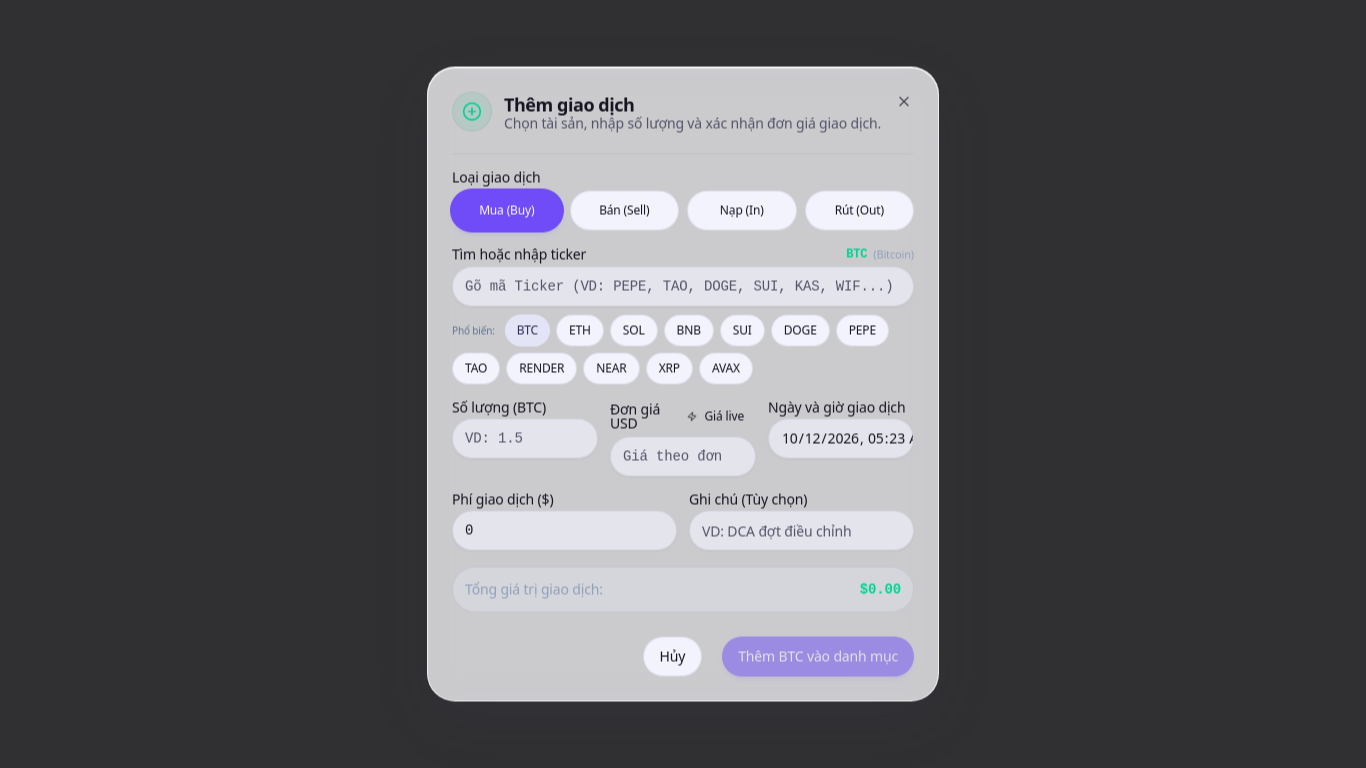
AddTransactionModal › selects a ticker suggestion with arrow keys and Enter
This screenshot has width=1366, height=768.
In the dropdown labelled "Tìm hoặc nhập ticker": coordinates (683, 286) left=452, top=266, right=914, bottom=306, type "DOGE"
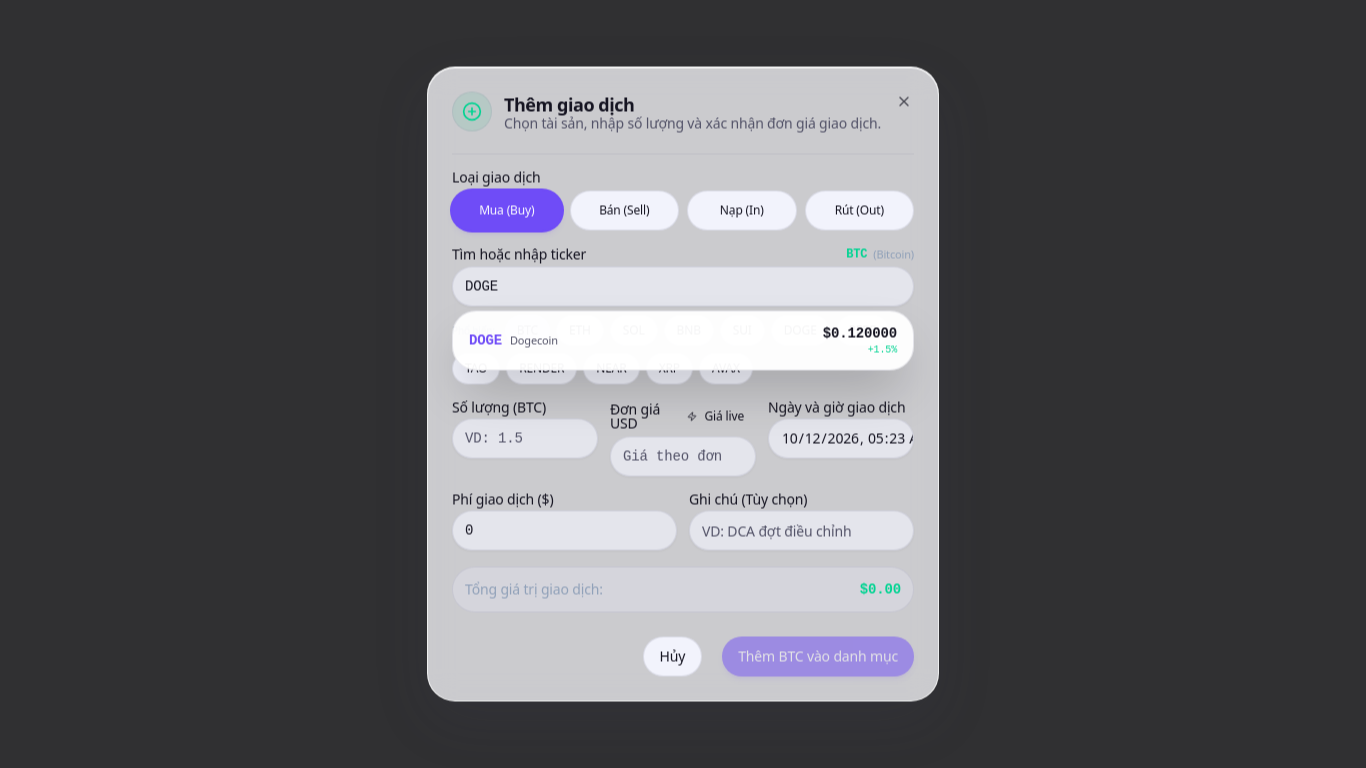
Press ArrowDown in the dropdown labelled "Tìm hoặc nhập ticker", box left=452, top=266, right=914, bottom=306
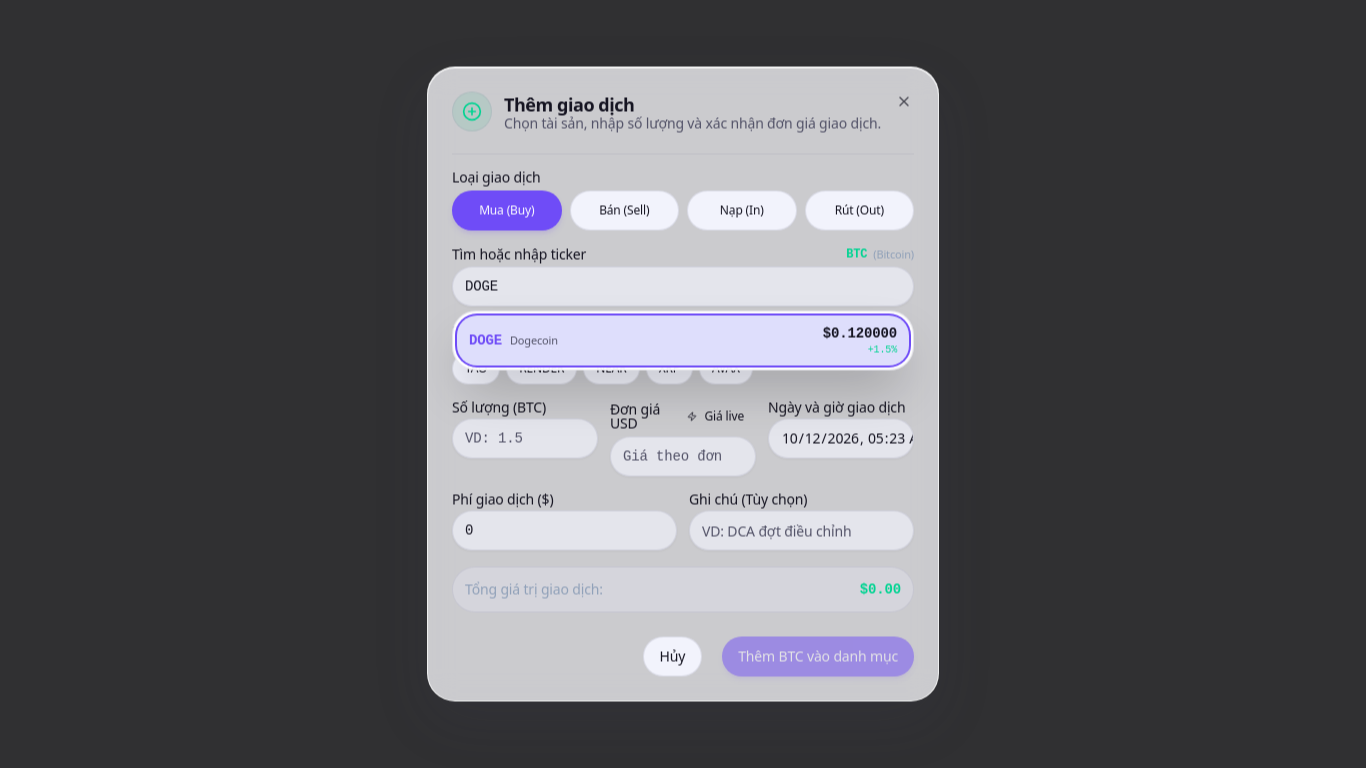
Now the button "DOGE Dogecoin $0.120000 +1.5%" is shown, box left=457, top=316, right=909, bottom=366
Press Enter in the dropdown labelled "Tìm hoặc nhập ticker", box left=452, top=266, right=914, bottom=306
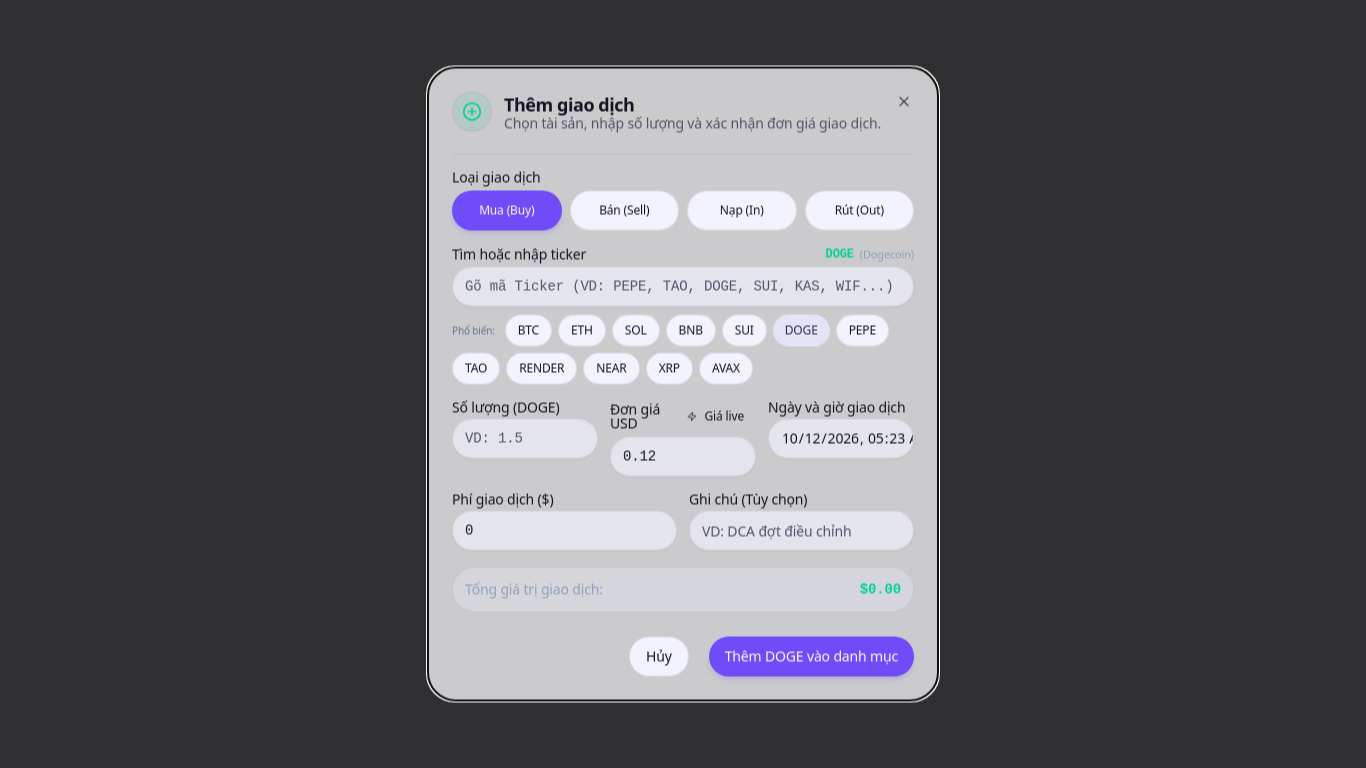
Now the text "(Dogecoin)" is shown, box left=860, top=247, right=914, bottom=262
